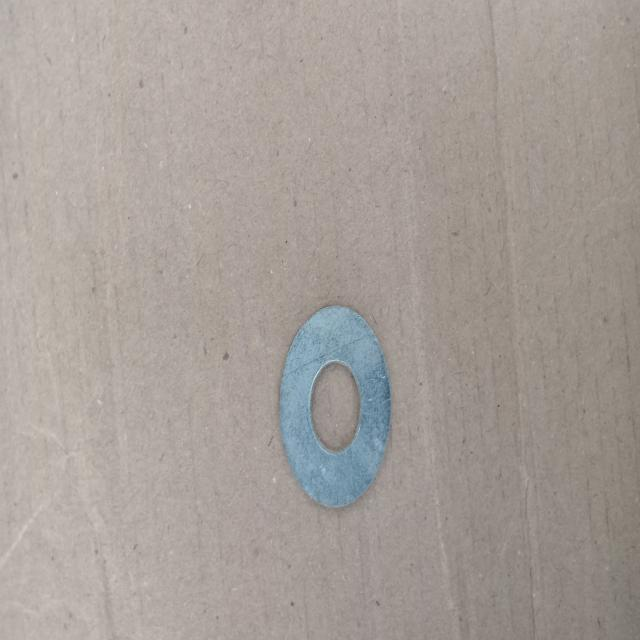washer: (278, 304, 391, 509)
